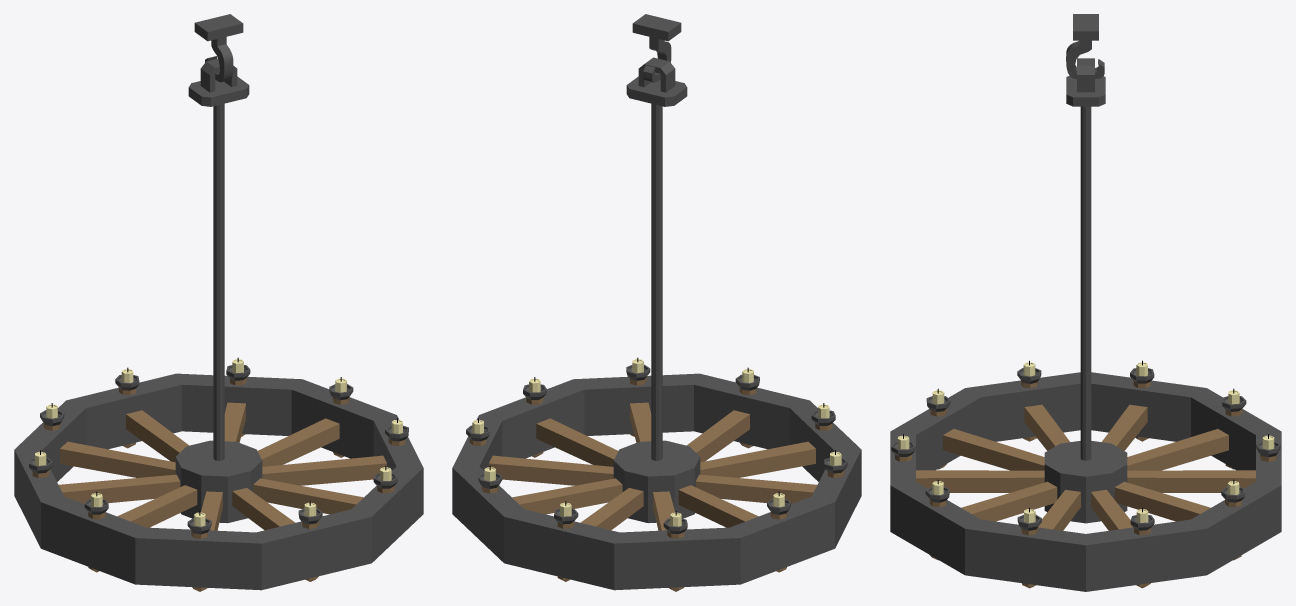
File: żydrandol.fbx
3 views of the same model, side by side, from view 1: azimuth 30°, elevation 25°; view 2: azimuth 150°, elevation 25°; view 3: azimuth 270°, elevation 25° (orthographic).
Visible parts, largest first — view 1: Cube_Cylinder_Cylinder_0; view 2: Cube_Cylinder_Cylinder_0; view 3: Cube_Cylinder_Cylinder_0.
Boxes of the visible parts, bbox=[...] form: Cube_Cylinder_Cylinder_0: bbox=[14, 14, 423, 591]; Cube_Cylinder_Cylinder_0: bbox=[452, 14, 861, 591]; Cube_Cylinder_Cylinder_0: bbox=[890, 14, 1281, 591].
Size of the model in its own units: 40 by 52.81 by 38.04.
